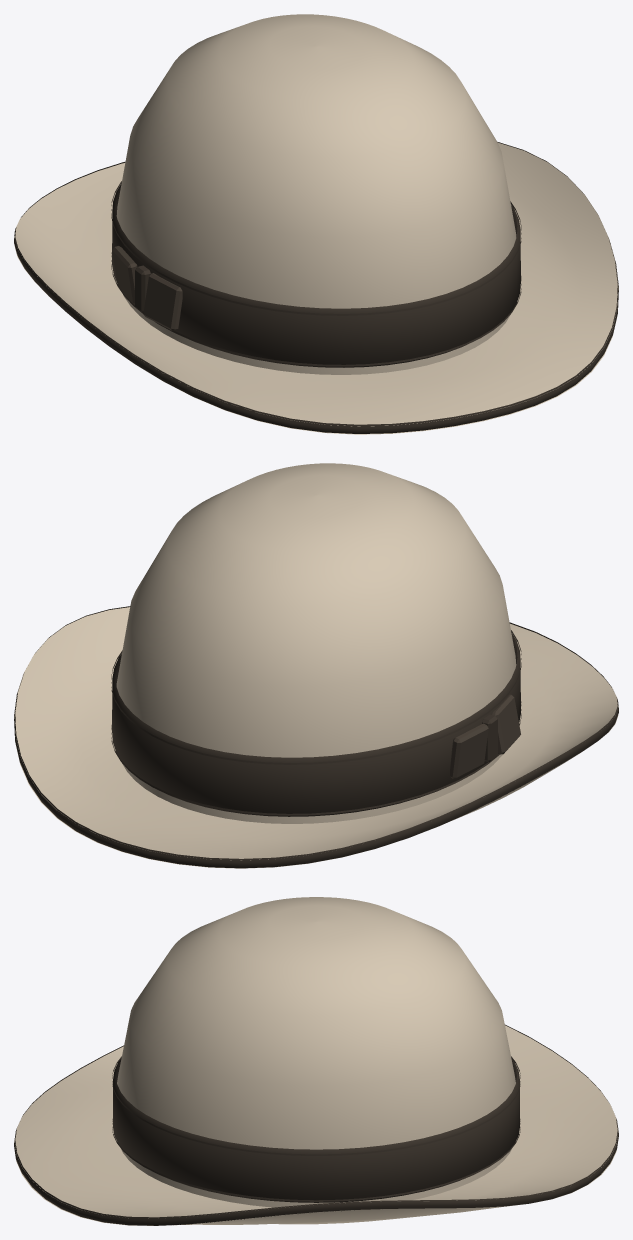
The model's file is derby.glb.
3 renders of one model, top to bottom at view 1: azimuth 30°, elevation 25°; view 2: azimuth 150°, elevation 25°; view 3: azimuth 270°, elevation 25°, orthographic. The views are drawn at different scales.
Visible parts, largest first — view 1: Felt crown, Felt upper brim, Fitted hatband, Bound brim edge, Folded ribbon bow.001, Sewn band border.001, Sewn band border, Folded ribbon bow, Felt under brim; view 2: Felt crown, Felt upper brim, Fitted hatband, Bound brim edge, Folded ribbon bow, Sewn band border.001, Folded ribbon bow.001, Sewn band border, Felt under brim; view 3: Felt crown, Felt upper brim, Fitted hatband, Bound brim edge, Felt under brim, Sewn band border.001, Sewn band border.
Boxes of the visible parts, <box> form: Felt crown: <box>116,14,516,374</box>; Felt upper brim: <box>14,142,618,426</box>; Fitted hatband: <box>112,183,520,367</box>; Bound brim edge: <box>14,142,618,433</box>; Folded ribbon bow.001: <box>143,273,182,330</box>; Sewn band border.001: <box>111,181,521,315</box>; Sewn band border: <box>111,252,521,366</box>; Folded ribbon bow: <box>112,246,137,303</box>; Felt under brim: <box>14,246,615,434</box>; Felt crown: <box>116,463,516,823</box>; Felt upper brim: <box>14,607,618,860</box>; Fitted hatband: <box>112,632,520,816</box>; Bound brim edge: <box>14,606,618,868</box>; Folded ribbon bow: <box>450,723,488,778</box>; Sewn band border.001: <box>111,630,521,764</box>; Folded ribbon bow.001: <box>492,694,520,754</box>; Sewn band border: <box>111,701,521,815</box>; Felt under brim: <box>16,715,618,868</box>; Felt crown: <box>117,897,515,1207</box>; Felt upper brim: <box>14,1025,618,1218</box>; Fitted hatband: <box>113,1058,519,1202</box>; Bound brim edge: <box>14,1024,618,1225</box>; Felt under brim: <box>16,1150,616,1225</box>; Sewn band border.001: <box>112,1056,520,1155</box>; Sewn band border: <box>112,1119,520,1201</box>.
Bounding box in the file's own units: 0.2585 × 0.1252 × 0.2986.
